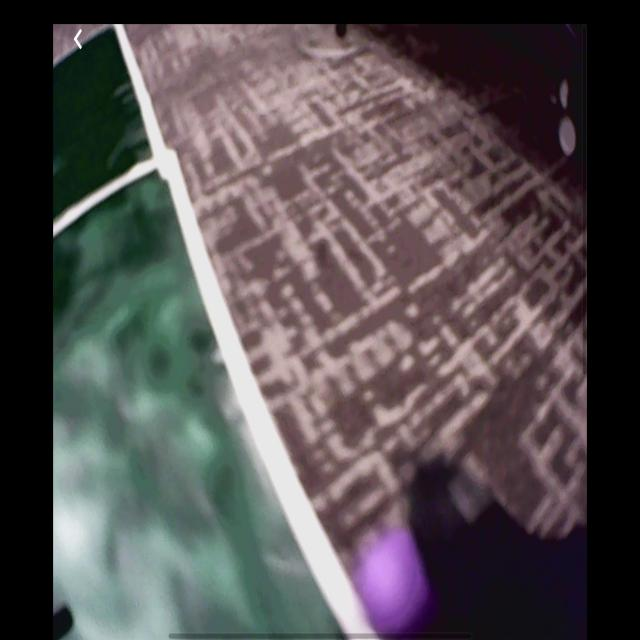ball: (350, 523, 432, 638)
